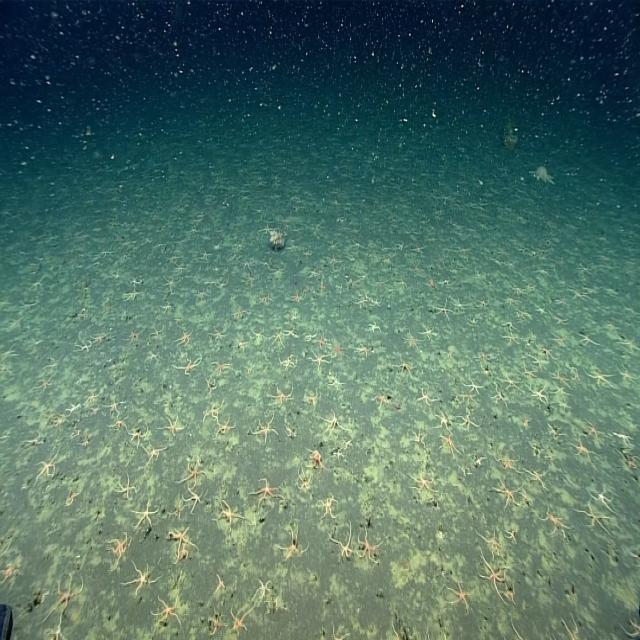brittle-stars: (31, 554, 97, 628), (110, 553, 167, 605), (146, 581, 190, 640), (246, 467, 284, 524), (472, 550, 512, 599), (324, 520, 361, 570), (480, 478, 528, 516), (212, 488, 247, 540), (96, 523, 130, 576), (125, 491, 161, 539), (275, 516, 310, 565), (354, 518, 388, 568), (166, 482, 208, 522), (161, 520, 197, 566), (247, 409, 281, 454), (532, 502, 574, 538), (31, 446, 65, 490), (173, 448, 207, 492), (0, 542, 26, 599), (571, 502, 610, 540), (440, 578, 476, 619), (197, 595, 229, 640), (223, 598, 257, 640), (552, 604, 590, 640), (493, 441, 528, 478), (60, 478, 88, 524), (472, 523, 504, 563), (318, 408, 355, 442), (168, 348, 203, 383), (250, 571, 284, 607), (156, 405, 193, 438), (312, 488, 341, 529), (562, 434, 595, 470), (410, 465, 441, 503), (455, 373, 487, 409), (127, 416, 154, 456), (618, 594, 640, 639), (108, 406, 134, 444), (404, 419, 432, 454), (206, 342, 233, 378), (452, 405, 482, 437), (102, 383, 128, 419), (591, 484, 622, 514), (583, 366, 612, 398), (28, 368, 55, 402), (249, 317, 271, 357), (526, 459, 551, 494), (298, 384, 325, 416), (496, 582, 523, 614), (290, 465, 316, 498), (43, 408, 70, 439), (263, 382, 295, 408), (115, 466, 136, 505), (610, 330, 639, 358), (198, 397, 225, 427), (426, 294, 454, 322), (609, 423, 638, 450), (144, 440, 167, 474), (212, 415, 238, 445), (494, 369, 524, 395), (208, 266, 234, 296), (227, 332, 253, 361), (433, 429, 455, 463), (509, 611, 534, 640), (69, 333, 93, 363), (305, 444, 329, 474), (415, 379, 439, 409), (528, 382, 552, 412), (261, 265, 293, 287), (170, 321, 194, 350), (204, 315, 227, 345), (84, 378, 103, 414), (432, 402, 454, 433), (570, 327, 596, 353), (474, 287, 499, 314), (389, 358, 417, 382), (303, 353, 336, 373), (544, 369, 574, 391), (0, 340, 21, 371), (582, 418, 606, 445), (464, 447, 488, 474), (122, 323, 145, 351), (468, 348, 496, 371), (486, 386, 510, 412), (396, 328, 423, 351), (270, 316, 286, 354), (225, 299, 249, 324), (418, 318, 442, 343), (499, 324, 523, 349), (613, 365, 639, 388), (548, 330, 570, 357), (144, 320, 168, 344), (534, 295, 553, 325), (277, 349, 297, 377), (91, 322, 110, 351), (190, 283, 212, 308), (517, 362, 538, 388), (323, 249, 344, 275), (534, 344, 554, 371), (573, 278, 591, 307), (503, 524, 523, 550), (210, 571, 229, 598), (161, 270, 180, 297), (543, 418, 562, 445), (393, 275, 412, 302), (121, 284, 143, 307), (235, 251, 257, 274), (326, 371, 346, 396), (361, 319, 386, 339), (556, 392, 576, 417), (257, 286, 275, 313), (352, 340, 374, 362), (368, 389, 389, 412), (200, 377, 222, 398), (552, 290, 572, 313), (236, 272, 258, 292), (283, 420, 302, 443), (349, 290, 369, 311), (68, 390, 81, 422), (368, 289, 384, 315), (100, 296, 118, 319), (453, 295, 471, 317), (145, 344, 162, 367), (158, 296, 174, 320), (282, 323, 302, 342), (550, 313, 570, 332), (302, 324, 319, 346), (333, 442, 347, 468), (626, 448, 640, 474), (516, 302, 534, 322), (304, 264, 322, 281), (284, 309, 300, 328), (288, 290, 307, 306), (319, 332, 331, 355), (242, 359, 256, 378), (438, 274, 452, 292), (199, 250, 214, 266), (330, 343, 348, 356)
